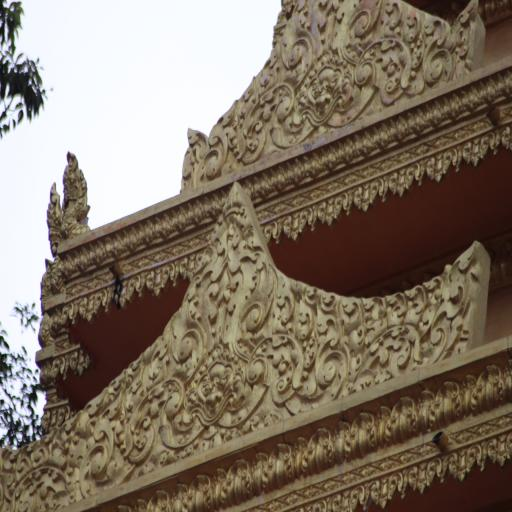la: (364, 250, 480, 378), (75, 379, 189, 500), (251, 334, 348, 406), (228, 84, 293, 169), (204, 212, 246, 341), (423, 3, 480, 91), (0, 450, 76, 511), (354, 34, 422, 102), (263, 0, 311, 84), (110, 338, 164, 406), (170, 272, 205, 376), (335, 0, 379, 61), (183, 126, 228, 183), (473, 363, 504, 415), (388, 392, 418, 444), (346, 410, 376, 461), (264, 441, 294, 492), (222, 456, 251, 508), (306, 422, 334, 475), (431, 378, 460, 429), (270, 269, 293, 333), (185, 471, 214, 512), (464, 133, 494, 168), (428, 148, 457, 184), (314, 294, 338, 332), (340, 293, 363, 331), (389, 164, 415, 196), (284, 209, 309, 242), (356, 180, 378, 215), (462, 371, 478, 418), (319, 196, 344, 226), (80, 290, 102, 324), (148, 264, 168, 299), (296, 298, 313, 338), (418, 388, 434, 430), (293, 436, 308, 479), (252, 450, 266, 496), (115, 277, 135, 309), (334, 418, 347, 466), (146, 488, 171, 512), (266, 214, 287, 242), (180, 252, 201, 280), (376, 406, 390, 448), (212, 468, 226, 510), (495, 122, 512, 154), (54, 355, 72, 382), (171, 482, 187, 512), (348, 350, 360, 390), (101, 282, 115, 315), (73, 350, 89, 378), (350, 328, 365, 356), (496, 72, 512, 98), (168, 259, 182, 287), (307, 202, 319, 234), (54, 304, 68, 331), (277, 162, 288, 192), (145, 214, 156, 244), (486, 74, 497, 103), (178, 204, 189, 233), (415, 162, 427, 188), (490, 132, 502, 158), (344, 191, 356, 216), (378, 178, 390, 203), (134, 274, 147, 297), (312, 150, 322, 179), (162, 210, 172, 239), (363, 125, 372, 157), (467, 85, 477, 113), (261, 170, 271, 198), (398, 112, 407, 143), (451, 90, 461, 117), (328, 143, 338, 170), (294, 154, 303, 184), (379, 122, 389, 148), (130, 223, 140, 249), (433, 98, 442, 126), (344, 138, 353, 166), (96, 235, 105, 263), (442, 93, 451, 120), (353, 131, 362, 158), (454, 148, 464, 172), (416, 106, 424, 136), (408, 108, 416, 138), (68, 300, 78, 324), (211, 190, 220, 216), (194, 198, 203, 224), (155, 212, 163, 241), (245, 177, 255, 200), (170, 205, 178, 233), (124, 224, 132, 252), (81, 246, 89, 274), (478, 80, 486, 107), (270, 167, 278, 194), (114, 232, 123, 256), (64, 253, 73, 277), (424, 102, 432, 128), (303, 155, 311, 180), (187, 201, 195, 226), (338, 138, 345, 166), (321, 145, 328, 173), (105, 234, 113, 258), (389, 117, 396, 144), (287, 159, 294, 186), (138, 219, 145, 246), (372, 124, 379, 150), (204, 193, 211, 219), (255, 175, 262, 199), (74, 249, 81, 272), (220, 188, 227, 210), (461, 89, 467, 112), (90, 238, 95, 262)
ran: (60, 147, 90, 234)
